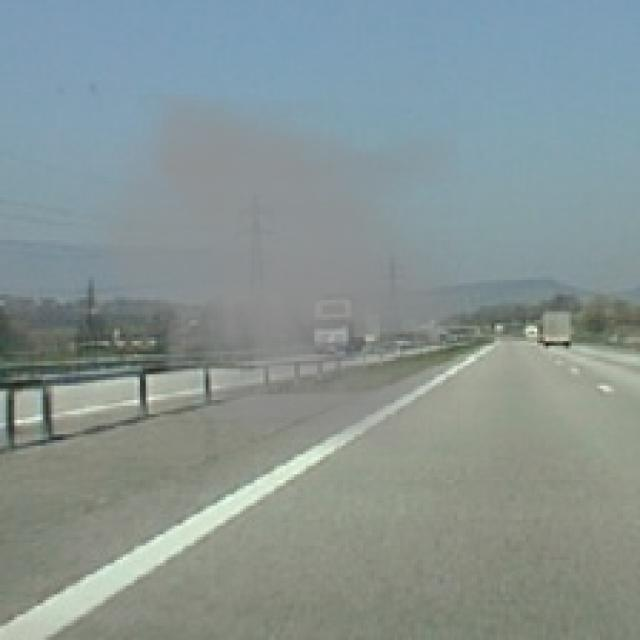Smoke: (77, 94, 460, 457)
